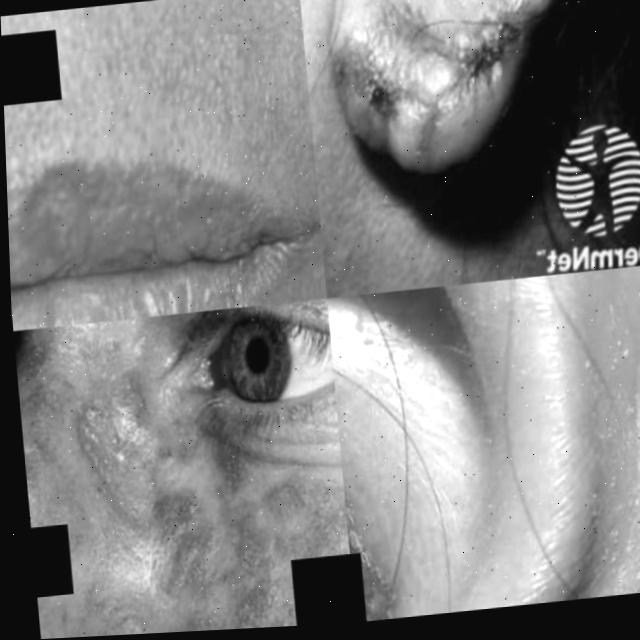lupus-detected: (53, 376, 355, 638), (4, 89, 326, 331), (298, 0, 597, 224), (12, 322, 179, 640), (334, 376, 477, 623)
